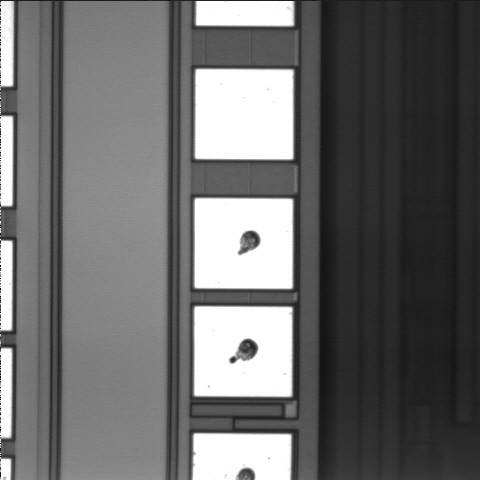pad: (195, 198, 293, 289), (195, 69, 293, 159), (194, 307, 292, 397)
